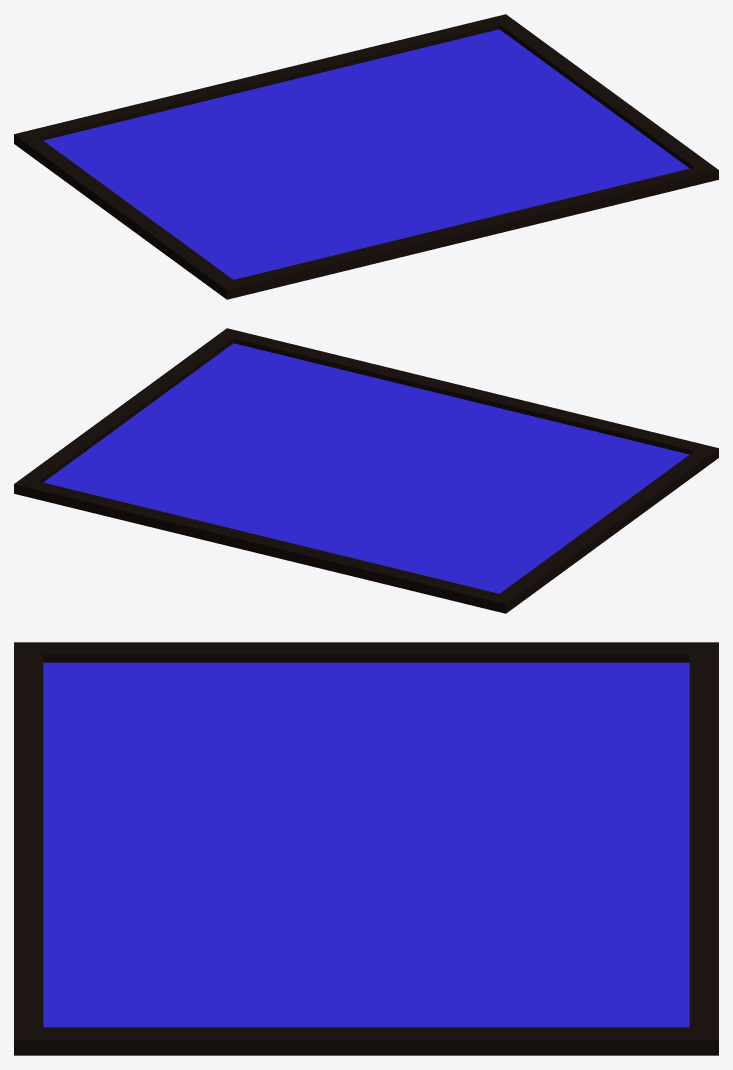
File: SM_Mirror_2.fbx
3 views of the same model, one above another, from view 1: azimuth 30°, elevation 25°; view 2: azimuth 150°, elevation 25°; view 3: azimuth 270°, elevation 25° (orthographic). The views are drawn at different scales.
Visible parts, largest first — view 1: Glass, Frame; view 2: Glass, Frame; view 3: Glass, Frame.
Boxes of the visible parts, left/top/right/bottom form: Glass: left=43, top=29, right=689, bottom=279; Frame: left=14, top=14, right=718, bottom=299; Glass: left=43, top=343, right=689, bottom=593; Frame: left=14, top=328, right=718, bottom=613; Glass: left=43, top=662, right=689, bottom=1027; Frame: left=14, top=642, right=718, bottom=1055.
Size of the model in its own units: 800 by 15 by 600.
